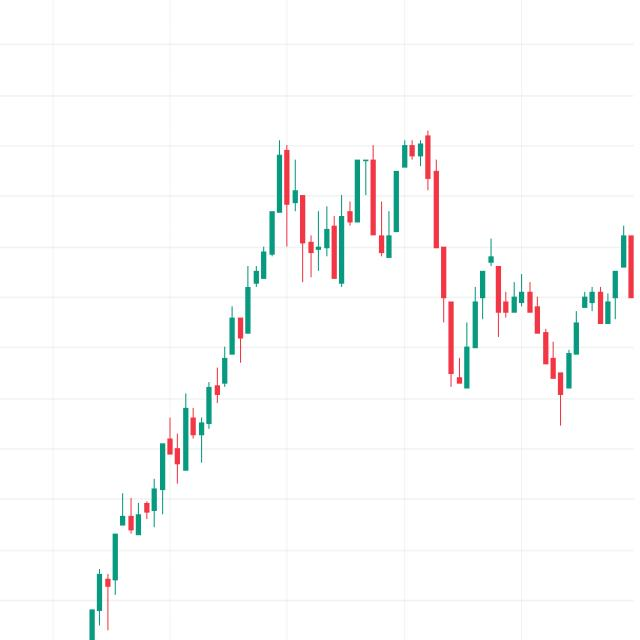Triple-Top: (238, 117, 460, 299)
